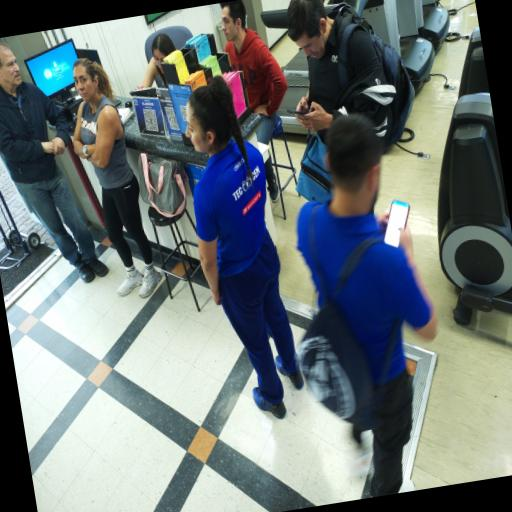person: (298, 114, 437, 496), (186, 76, 303, 418), (0, 43, 108, 282), (73, 59, 161, 297), (287, 0, 396, 139), (220, 0, 287, 144), (139, 33, 175, 88)
